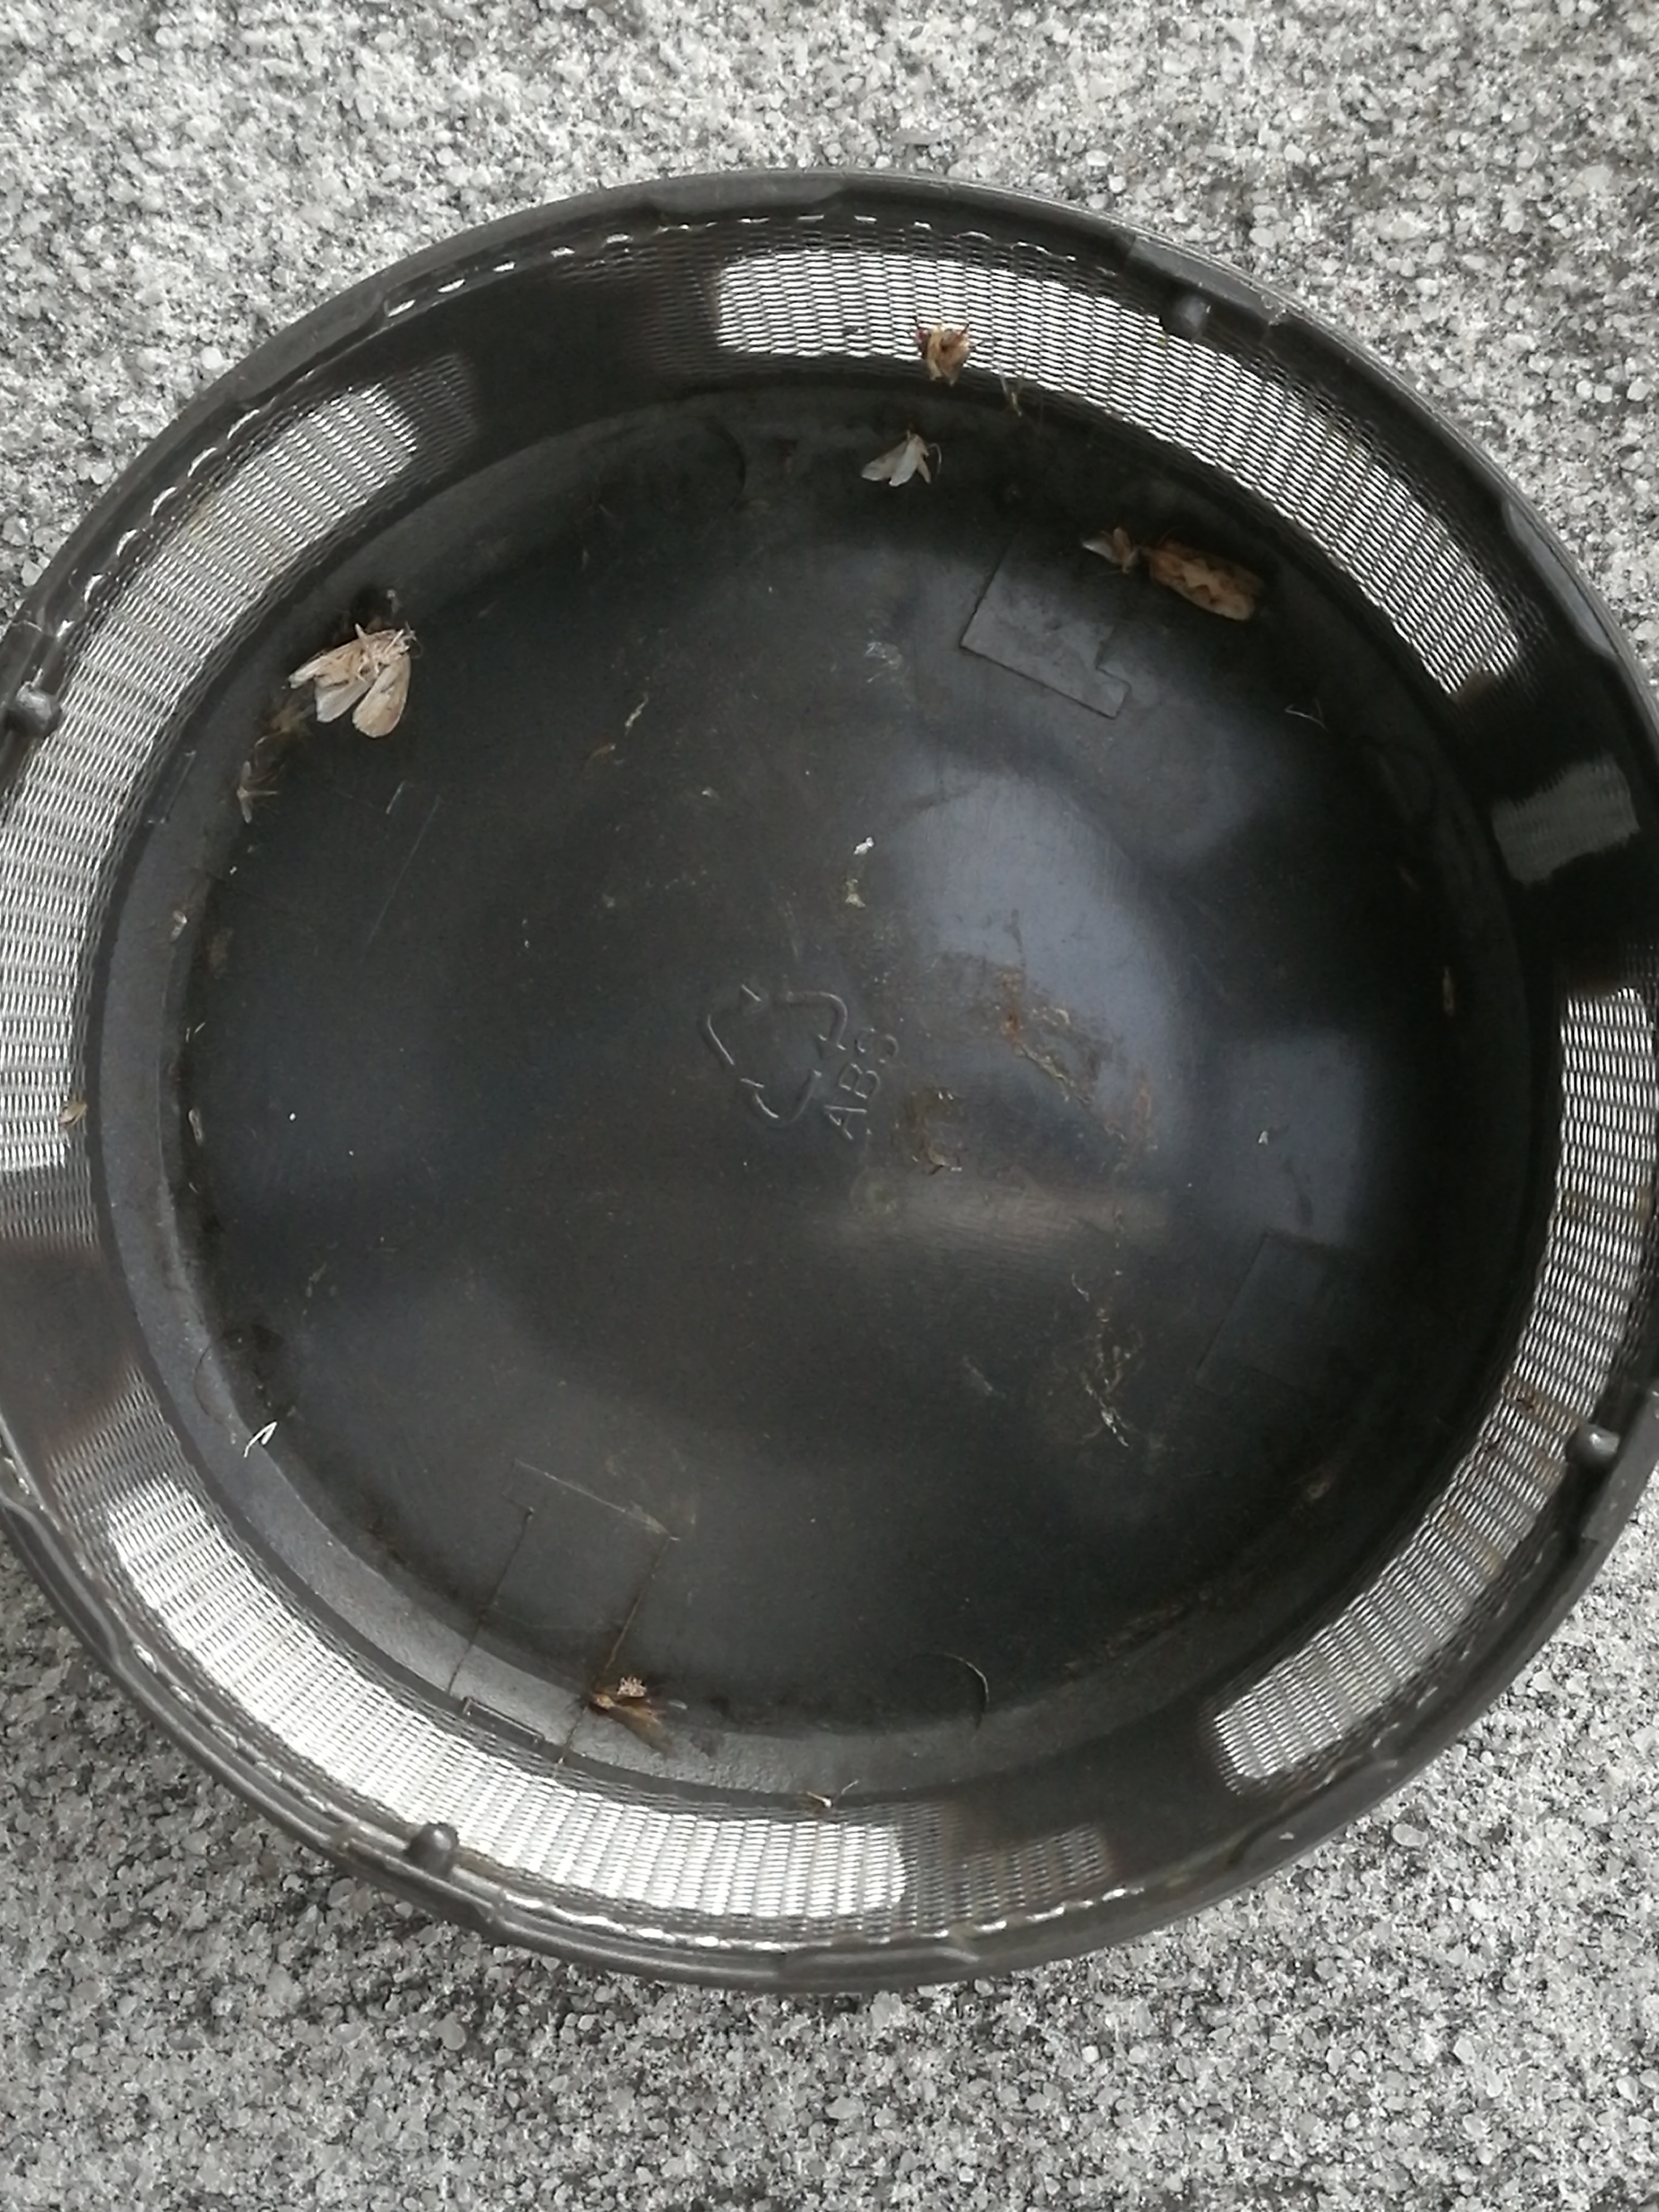moth: (286, 629, 411, 735), (1148, 542, 1263, 620), (591, 1693, 687, 1752), (861, 432, 931, 484), (1080, 526, 1138, 571), (917, 329, 967, 380)
